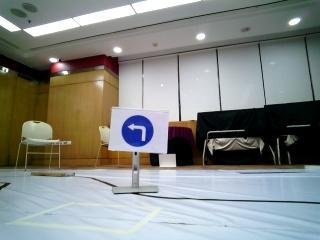left: (117, 109, 161, 151)
